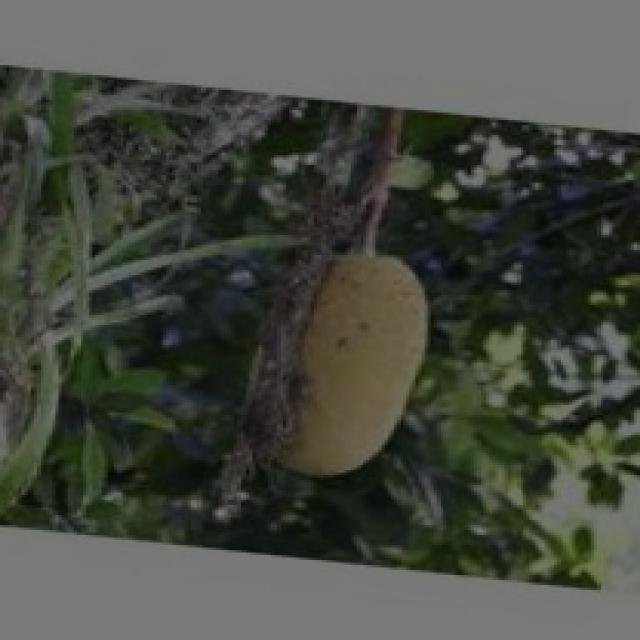Fruit: (246, 225, 468, 513)
